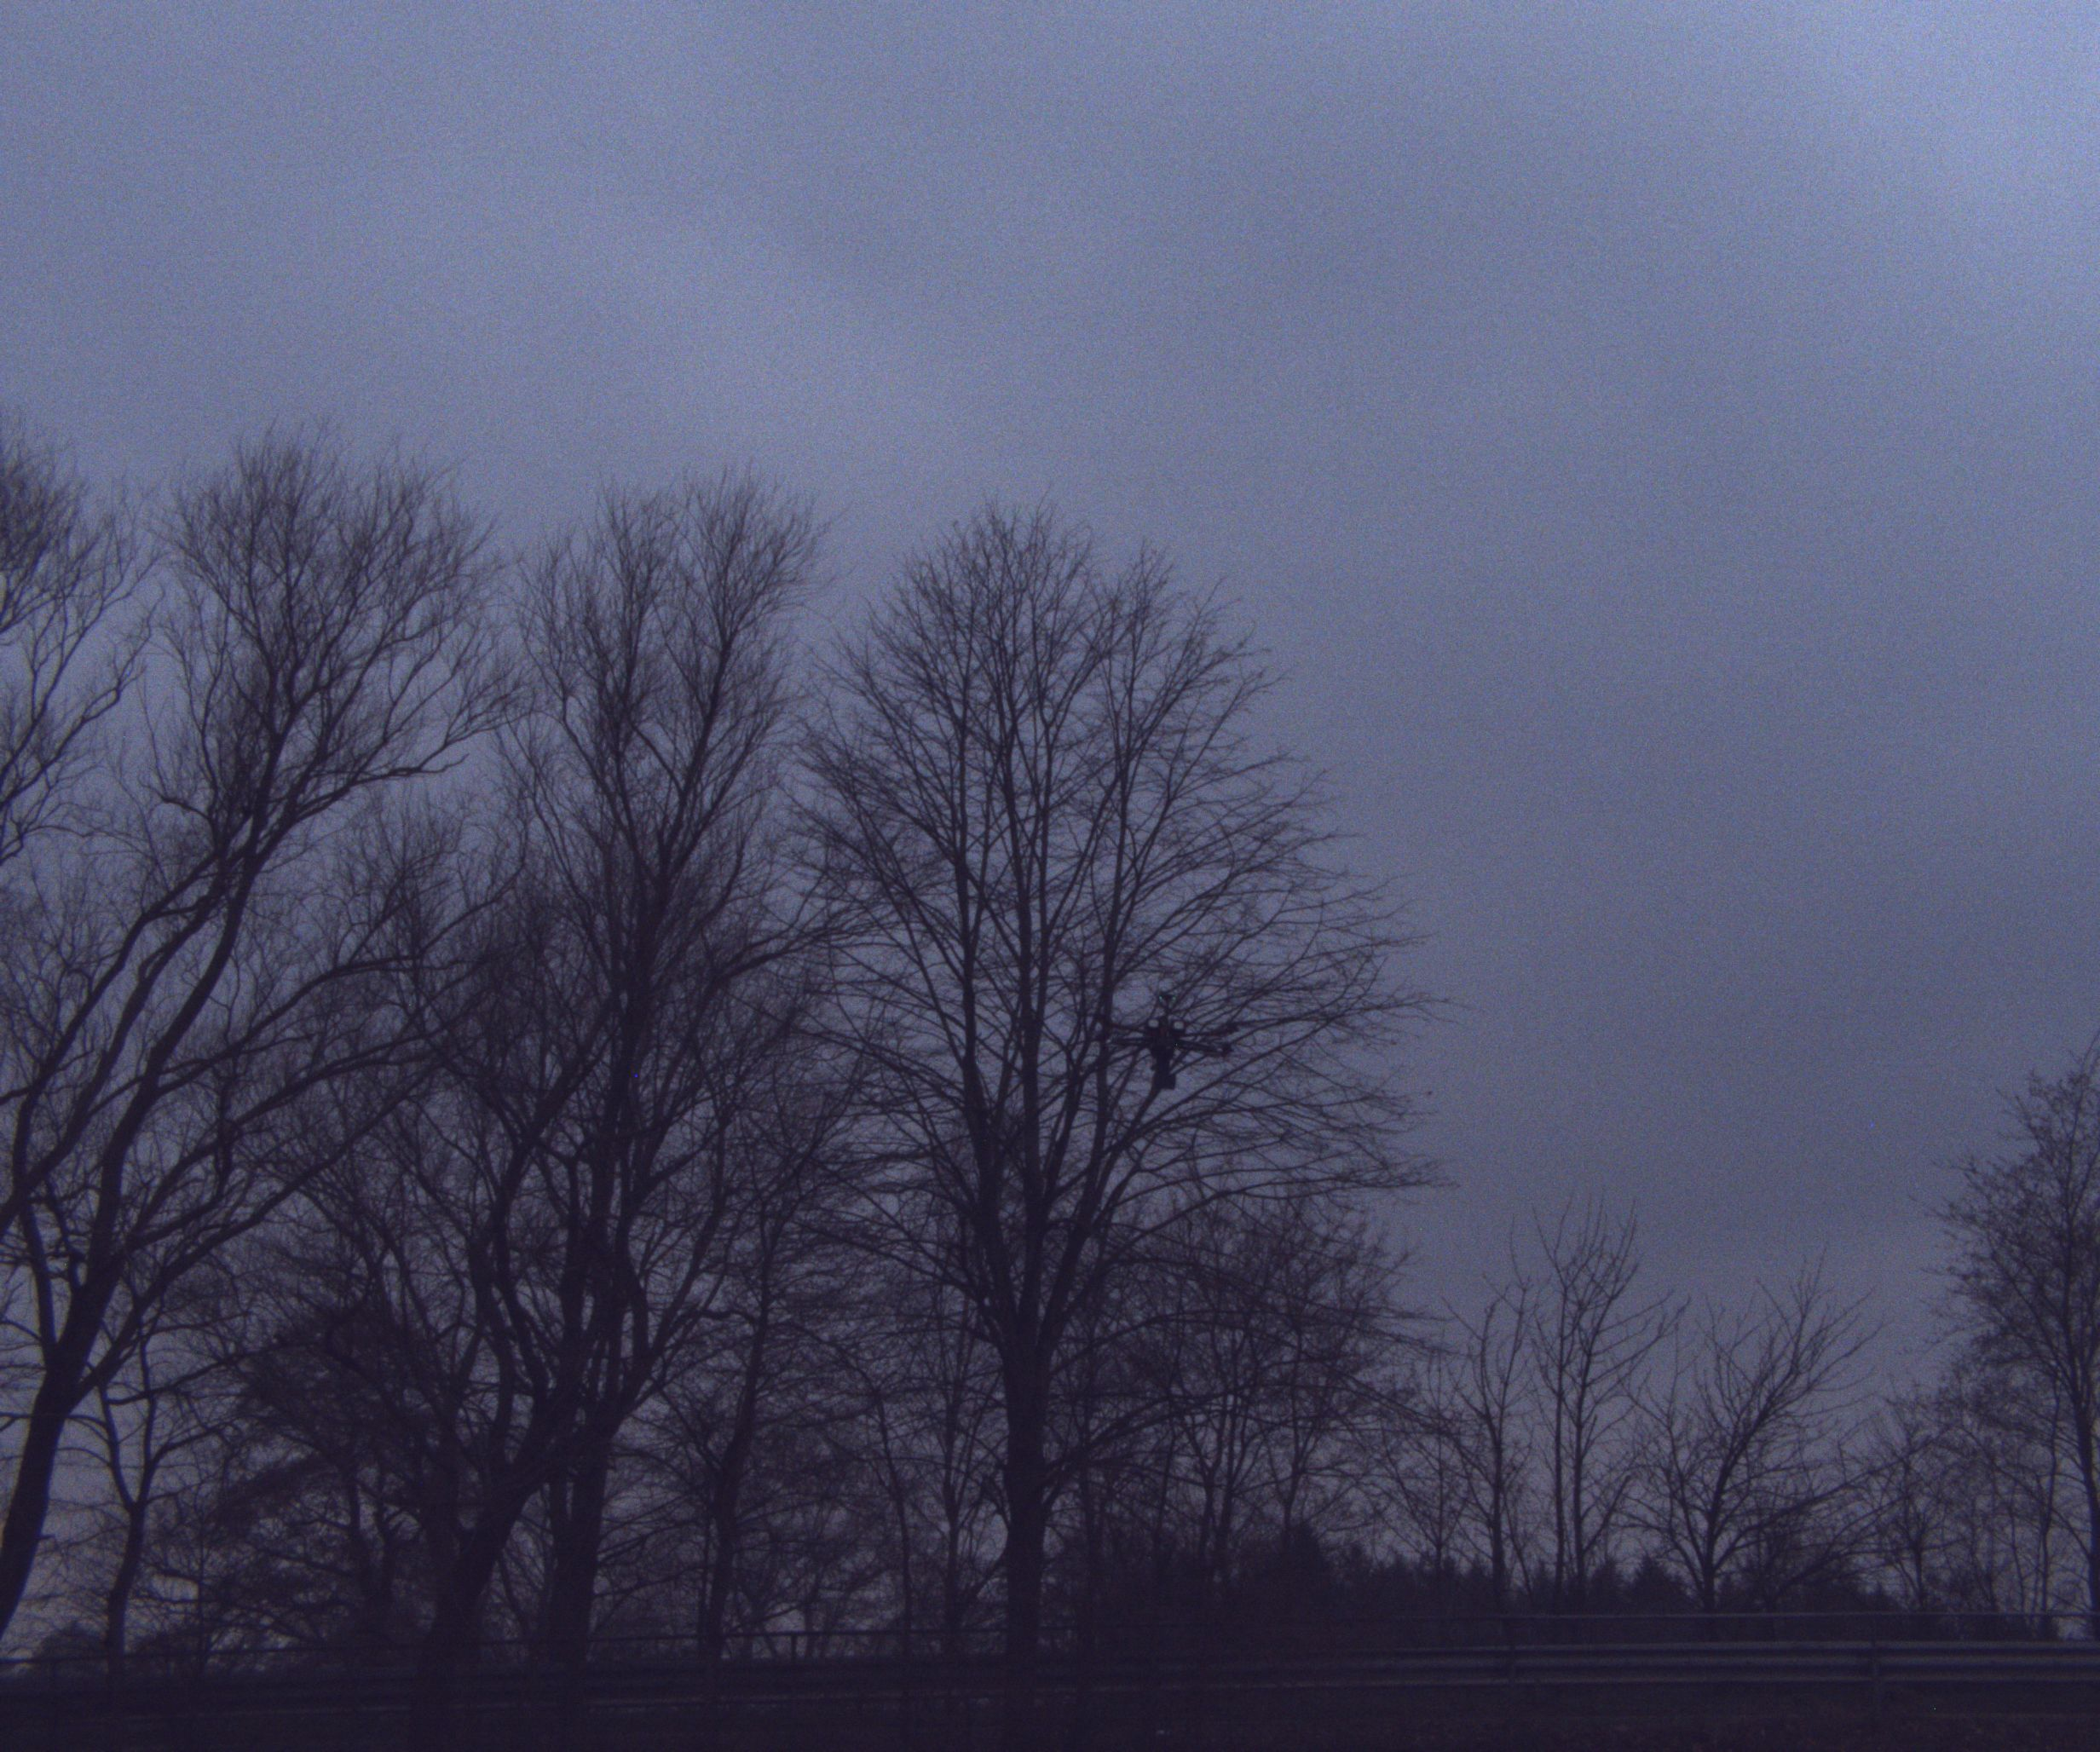Drohne: (1050, 957, 1340, 1130)
